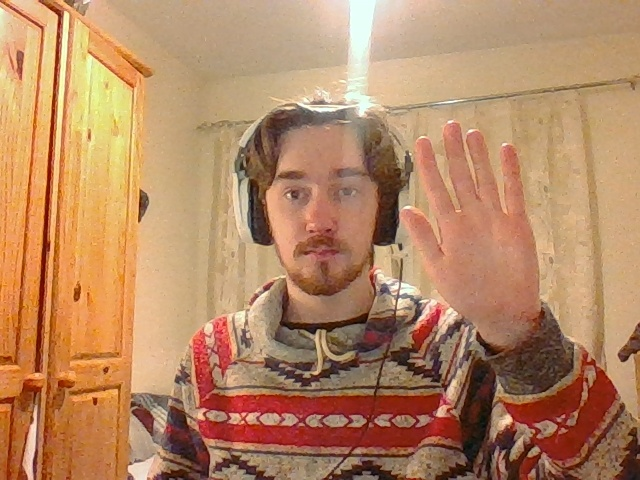hello: (397, 121, 542, 318)
